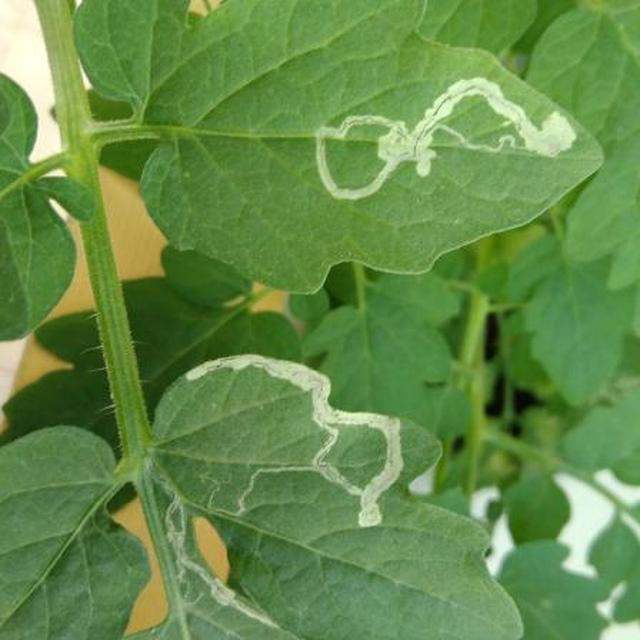Leaf Miner: (481, 210, 640, 640)
